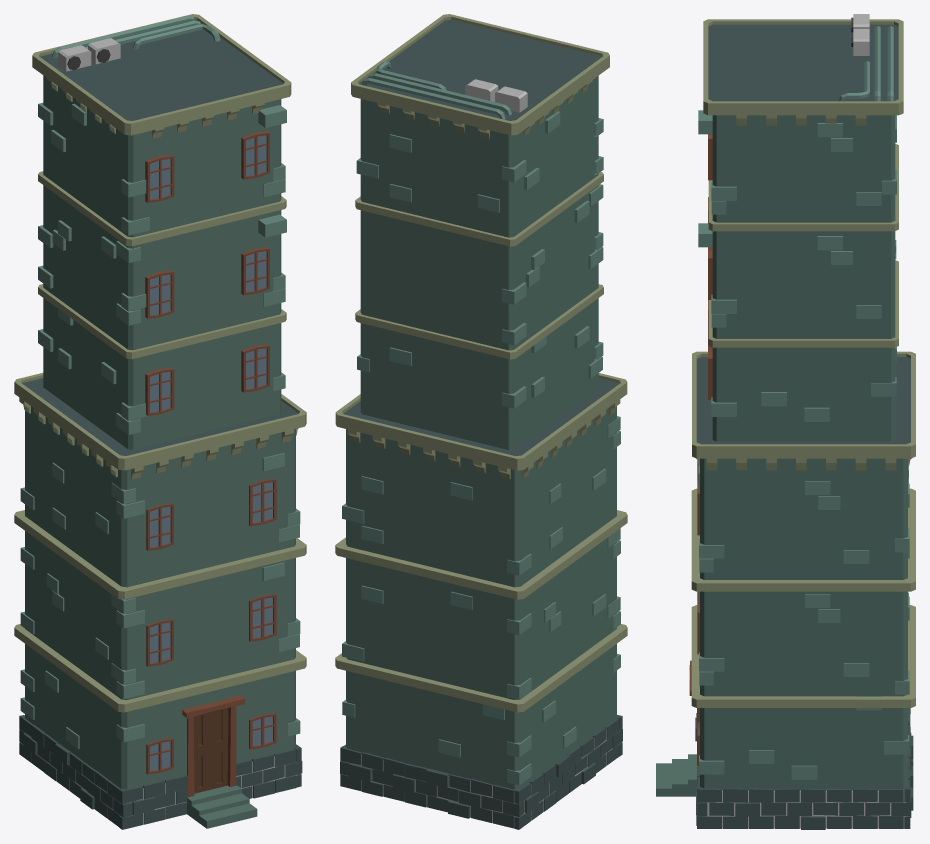
The model's file is 6Story_Stack_Mat.gltf.
The picture shows the model from 3 angles, left to right: view 1: azimuth 30°, elevation 25°; view 2: azimuth 150°, elevation 25°; view 3: azimuth 270°, elevation 25°; orthographic projection. The views are drawn at different scales.
Visible parts, largest first — view 1: 6Story_Stack_Mat_Cube.012; view 2: 6Story_Stack_Mat_Cube.012; view 3: 6Story_Stack_Mat_Cube.012.
Boxes of the visible parts, left/top/right/bottom form: 6Story_Stack_Mat_Cube.012: left=14, top=14, right=306, bottom=829; 6Story_Stack_Mat_Cube.012: left=335, top=14, right=627, bottom=829; 6Story_Stack_Mat_Cube.012: left=656, top=14, right=915, bottom=829.
Bounding box in the file's own units: 2.16 × 7.8 × 2.5.
